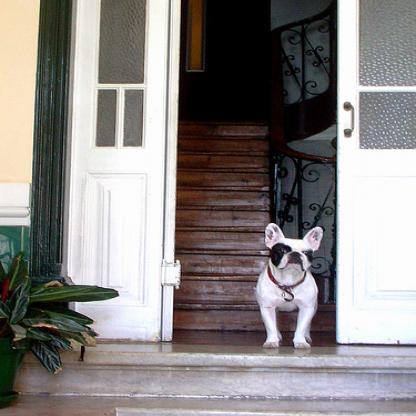French_bulldog: (254, 220, 323, 348)
